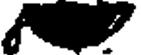Basket: (2, 1, 137, 55)
